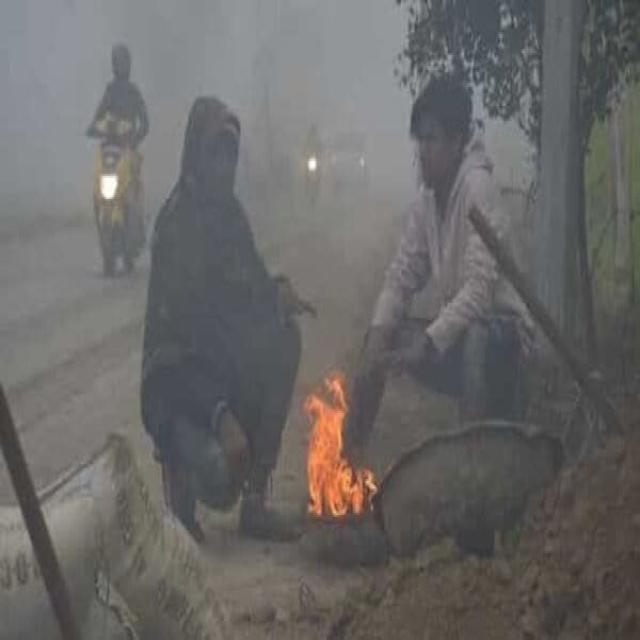fire: (302, 376, 377, 519)
